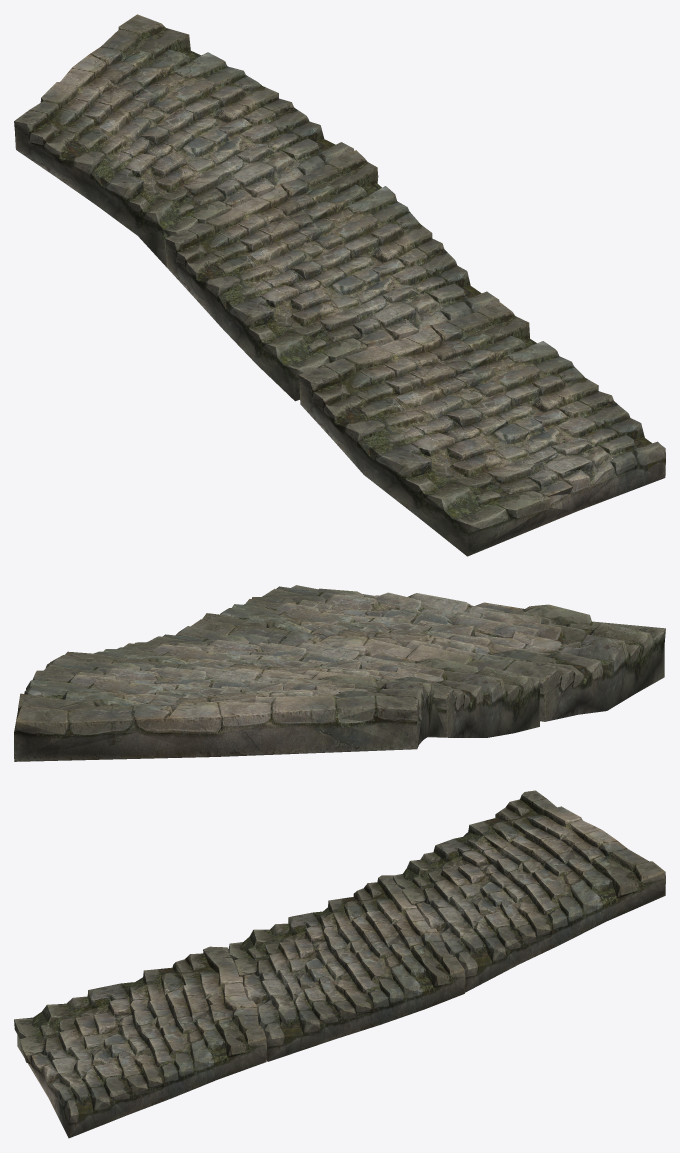
File: bg_anh_gvalley_sf01_03_sm_cwk.FBX
3 views of the same model, one above another, from view 1: azimuth 30°, elevation 25°; view 2: azimuth 150°, elevation 25°; view 3: azimuth 270°, elevation 25° (orthographic). The views are drawn at different scales.
Visible parts, largest first — view 1: bg_anh_gvalley_sf01_03_sm_cwk; view 2: bg_anh_gvalley_sf01_03_sm_cwk; view 3: bg_anh_gvalley_sf01_03_sm_cwk.
Part boxes in pixels (x1=…): bg_anh_gvalley_sf01_03_sm_cwk: x1=14, y1=14, x2=665, y2=556; bg_anh_gvalley_sf01_03_sm_cwk: x1=14, y1=585, x2=665, y2=761; bg_anh_gvalley_sf01_03_sm_cwk: x1=14, y1=790, x2=665, y2=1138.
Size of the model in its own units: 553 by 346 by 1017.
